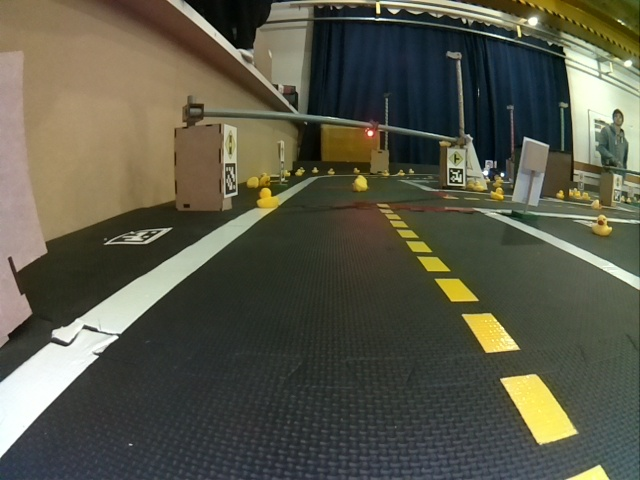Duckie: (257, 190, 276, 208), (594, 218, 610, 233), (354, 176, 366, 191), (490, 188, 502, 196), (248, 177, 258, 185), (556, 190, 564, 199), (474, 183, 482, 192), (313, 167, 320, 174), (262, 176, 270, 181), (327, 169, 334, 174)
Intersection sign: (450, 151, 463, 167)
QR code: (109, 228, 172, 244), (225, 166, 237, 197), (447, 169, 465, 186)
Signal sign: (224, 125, 237, 159)
Traffic light: (366, 129, 375, 138)
